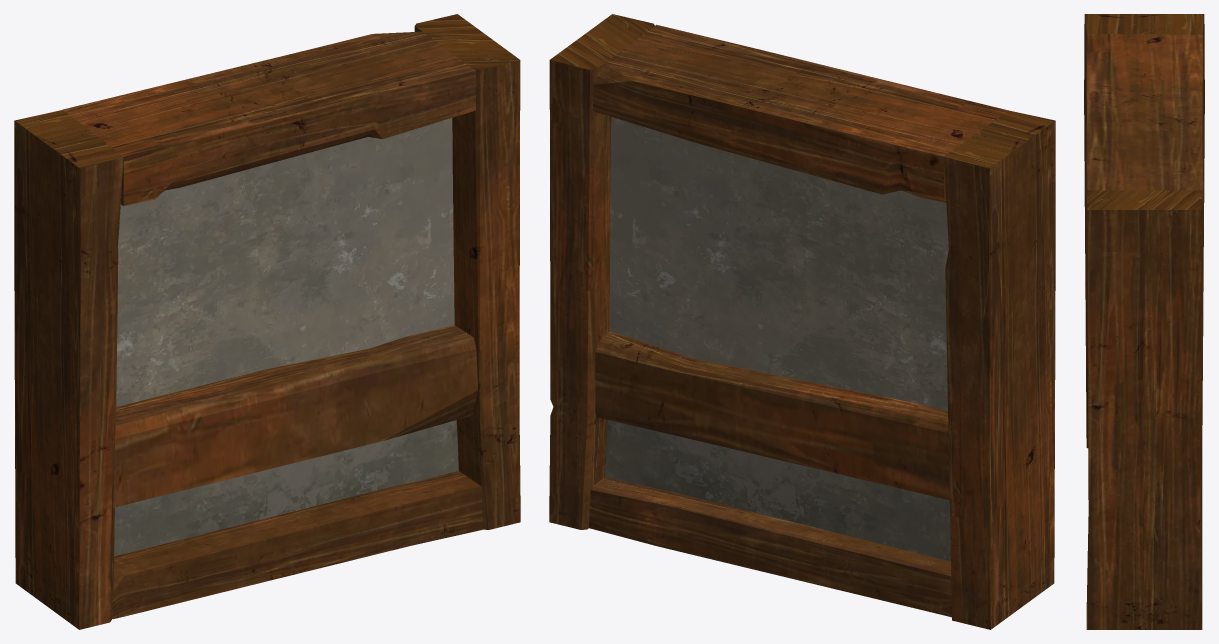
3 views of the same model, side by side, from view 1: azimuth 30°, elevation 25°; view 2: azimuth 150°, elevation 25°; view 3: azimuth 270°, elevation 25° (orthographic). The views are drawn at different scales.
Visible parts, largest first — view 1: SM_BB_T2_Wall_Med_LOD0; view 2: SM_BB_T2_Wall_Med_LOD0; view 3: SM_BB_T2_Wall_Med_LOD0.
Boxes of the visible parts, x1,y1,x2,y2 form: SM_BB_T2_Wall_Med_LOD0: (14,14,520,629); SM_BB_T2_Wall_Med_LOD0: (549,14,1055,629); SM_BB_T2_Wall_Med_LOD0: (1084,14,1204,629).
Bounding box in the file's own units: 1.5 × 1.5 × 0.3912.
Materials: 2 (2 with a texture image).
